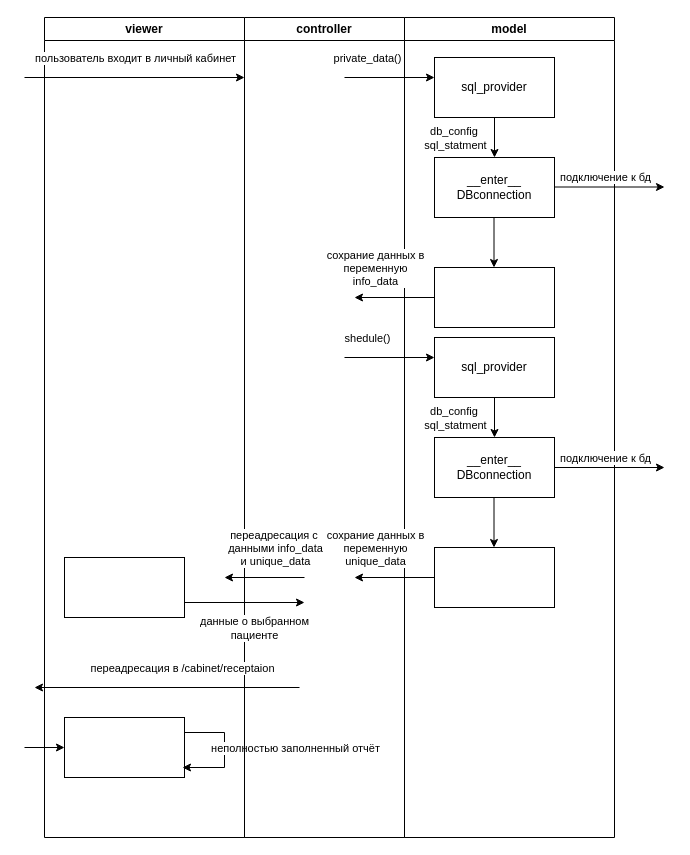
Image size: 690x855. Some labels were removed from this diagram. Here are the shapes that lost their labels. From the top down, the centre of each, then its label:
pixel 494 297: doctor_name specialization name_department
pixel 124 587: страница с личным кабинетом
pixel 494 577: rec_time name_patient id_shedule
pixel 124 747: страница отчёта приёма
